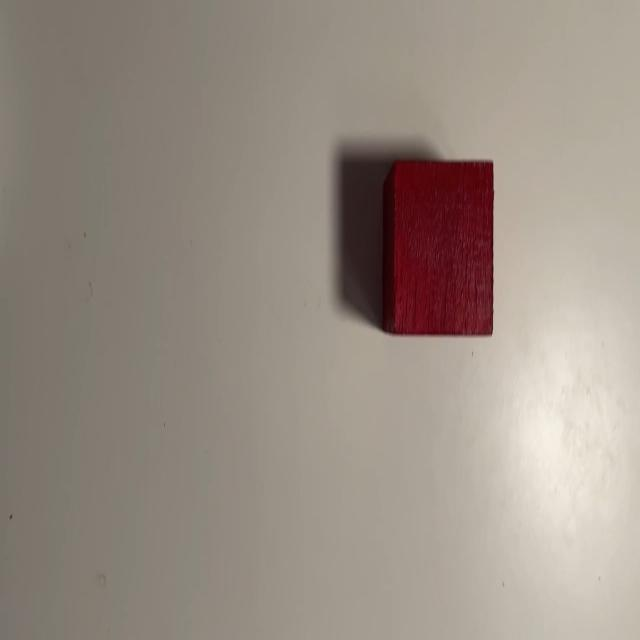red_block: (390, 159, 495, 339)
